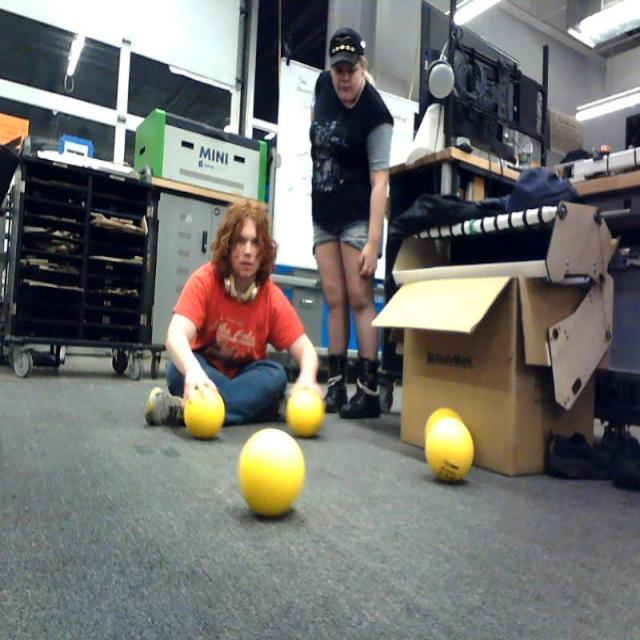Fuel: (239, 428, 305, 518), (425, 416, 474, 484), (183, 386, 225, 439), (286, 386, 324, 436)
